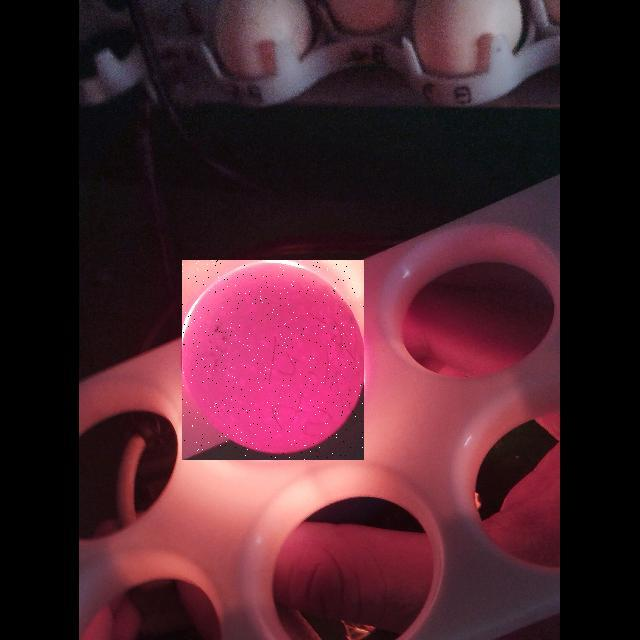Infertile: (182, 260, 364, 460)
